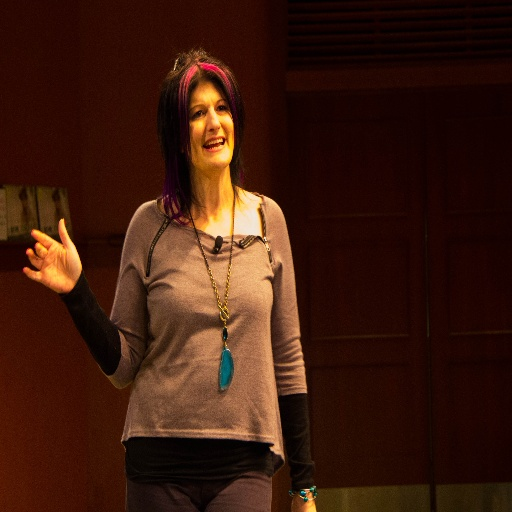hand: (21, 220, 92, 302), (290, 488, 316, 511)
